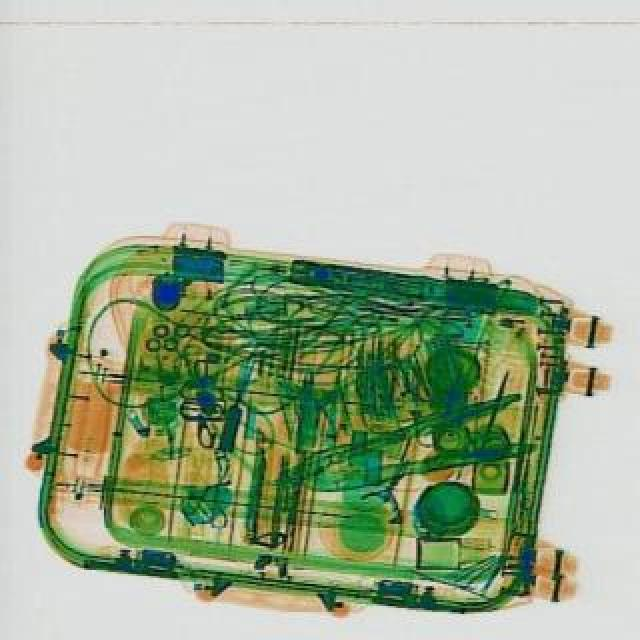pliers: (454, 364, 526, 458), (416, 370, 476, 452)
